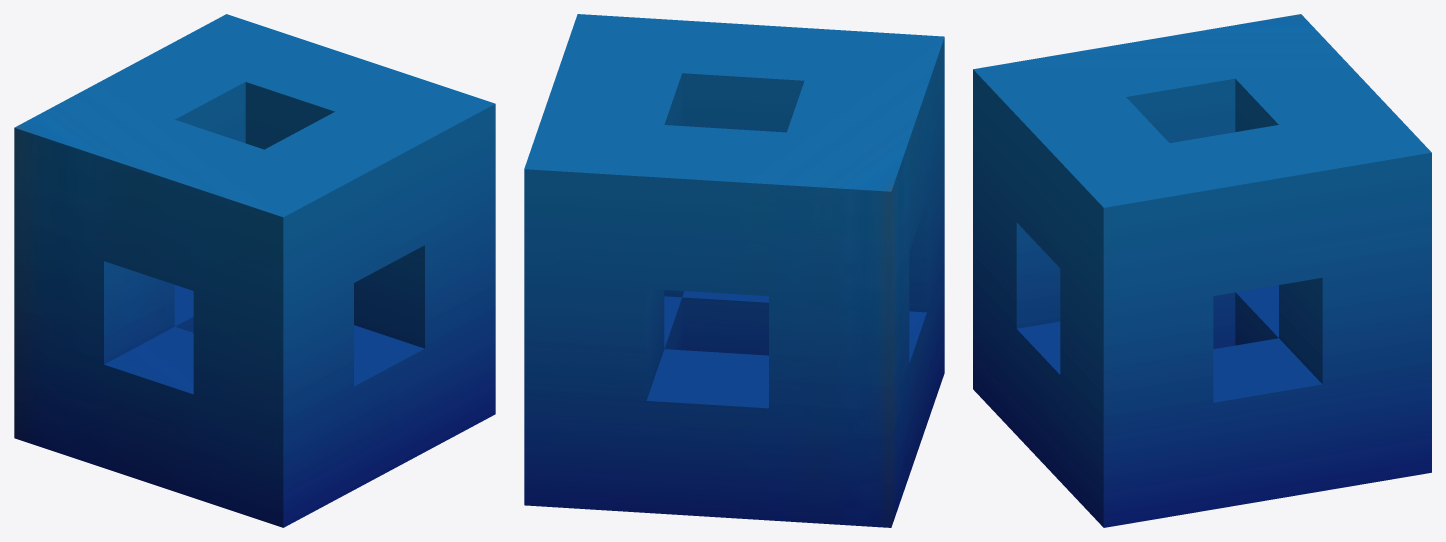
File: YouTubeDynamics.glb
The picture shows the model from 3 angles, left to right: view 1: azimuth 30°, elevation 25°; view 2: azimuth 150°, elevation 25°; view 3: azimuth 270°, elevation 25°; orthographic projection. The views are drawn at different scales.
Visible parts, largest first — view 1: Sponge; view 2: Sponge; view 3: Sponge.
Boxes of the visible parts, x1,y1,x2,y2 form: Sponge: (14, 14, 495, 527); Sponge: (524, 14, 944, 527); Sponge: (973, 14, 1431, 527).
Size of the model in its own units: 2.6 by 2 by 2.6.
1 material, 1 textured.
